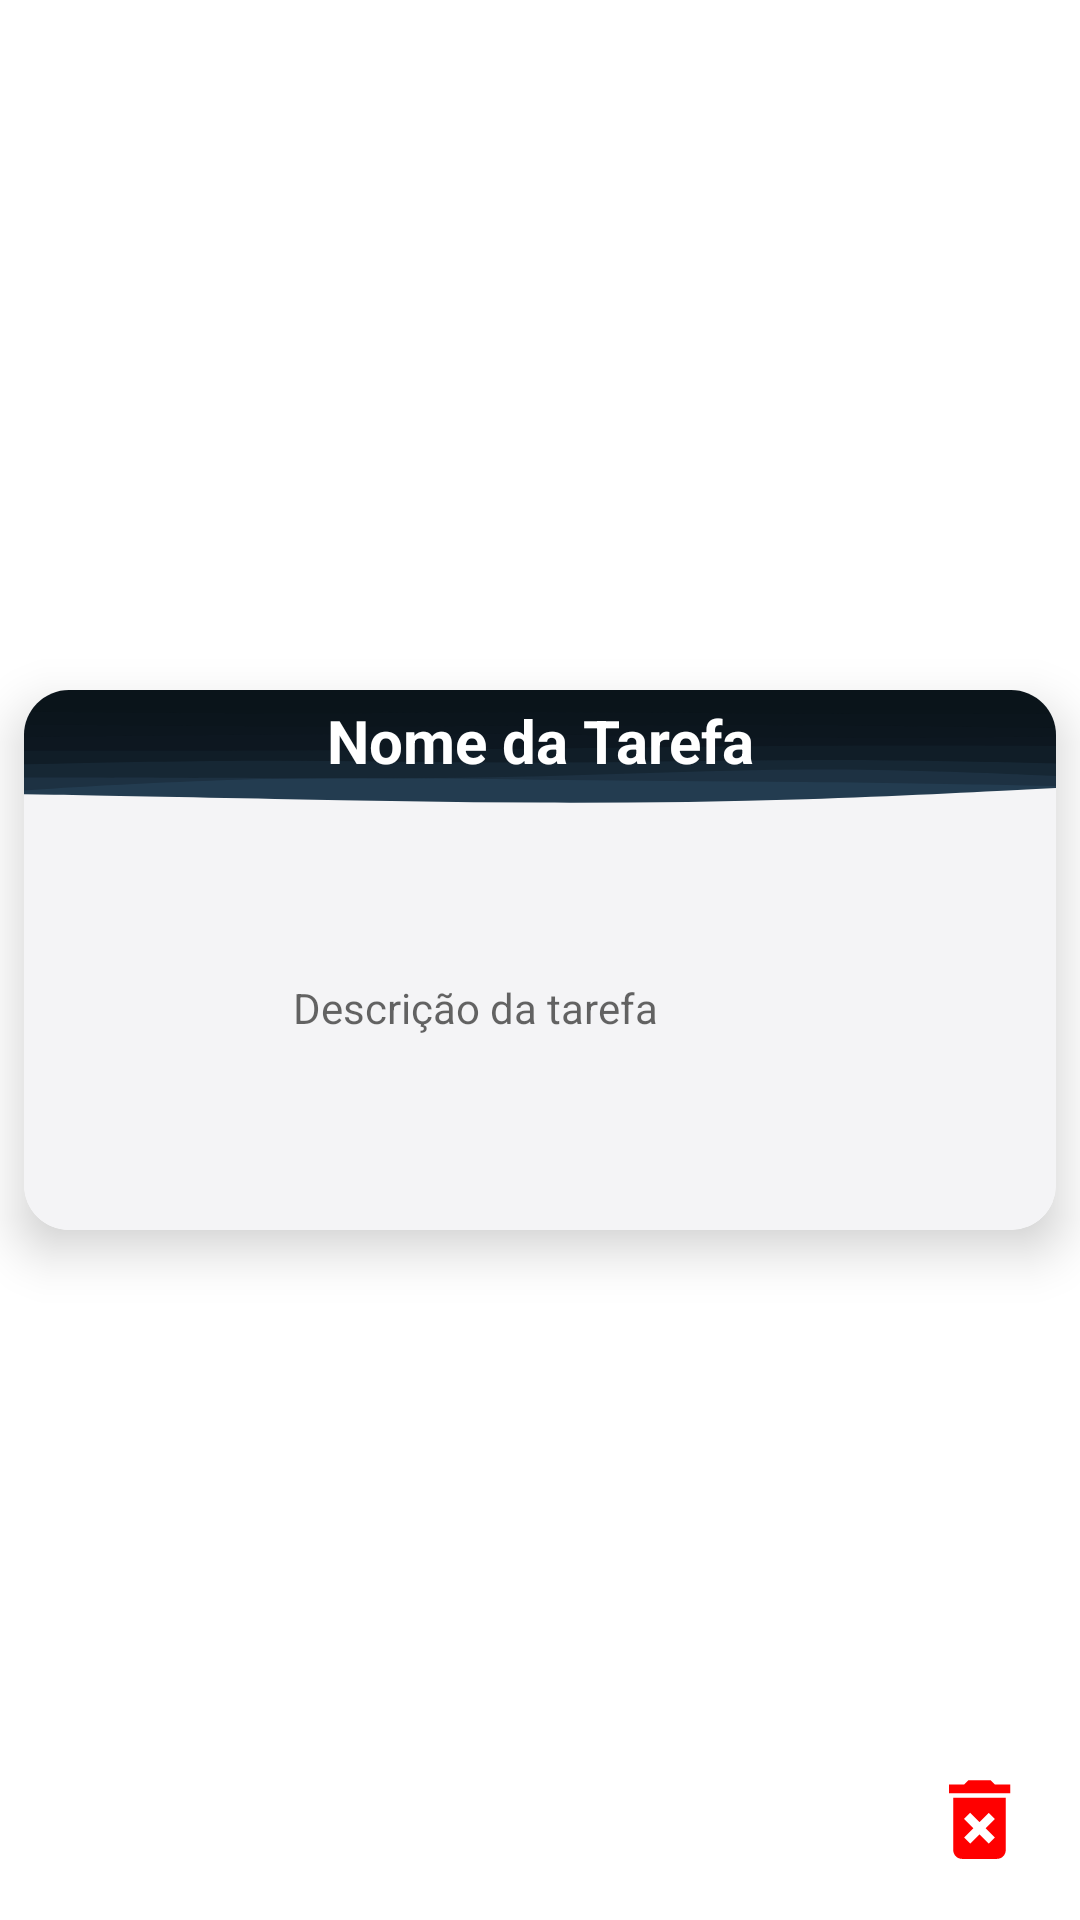

Where to tap for icons on this 1080w x 1920h app screen, as (x,y):
delete forever: (980,1819)
